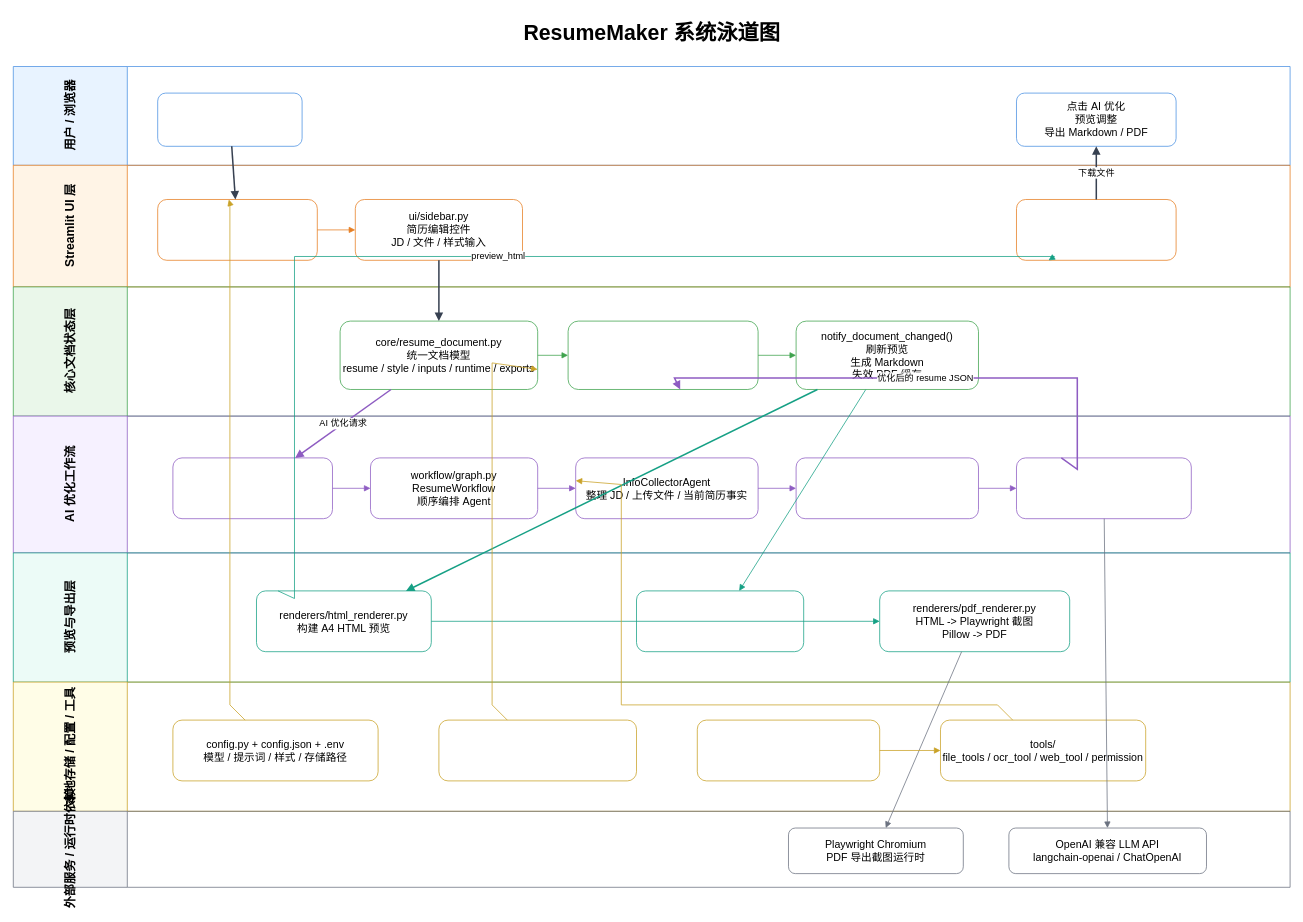
Some shapes in this 1303 by 922 pixel diagram are drawn without their labels. Here are the shapes that lost their labels. From the top down, the centre of each, then its label:
(x=229, y=119): 填写简历信息 输入 JD 上传旧简历 / 头像
(x=237, y=229): app.py 初始化 session_state 页面编排 / 事件触发
(x=1096, y=229): ui/preview.py 右侧 A4 预览 下载按钮展示
(x=662, y=355): core/document_commands.py 新增 / 删除 / 排序 / 更新模块 保存快照
(x=252, y=488): core/service.py optimize_resume_by_jd()
(x=886, y=488): ExistingResumeParserAgent 旧简历文本解析与合并上下文
(x=1103, y=488): ResumeWriterAgent 调用 LLM / 校验 JSON 失败时本地兜底
(x=720, y=621): renderers/markdown_renderer.py Markdown 导出
(x=537, y=750): core/data.py data/resume_data.json 读取 / 保存 / 结构归一化
(x=788, y=750): data/uploads/ 头像 / 旧简历 / 其他上传文件
